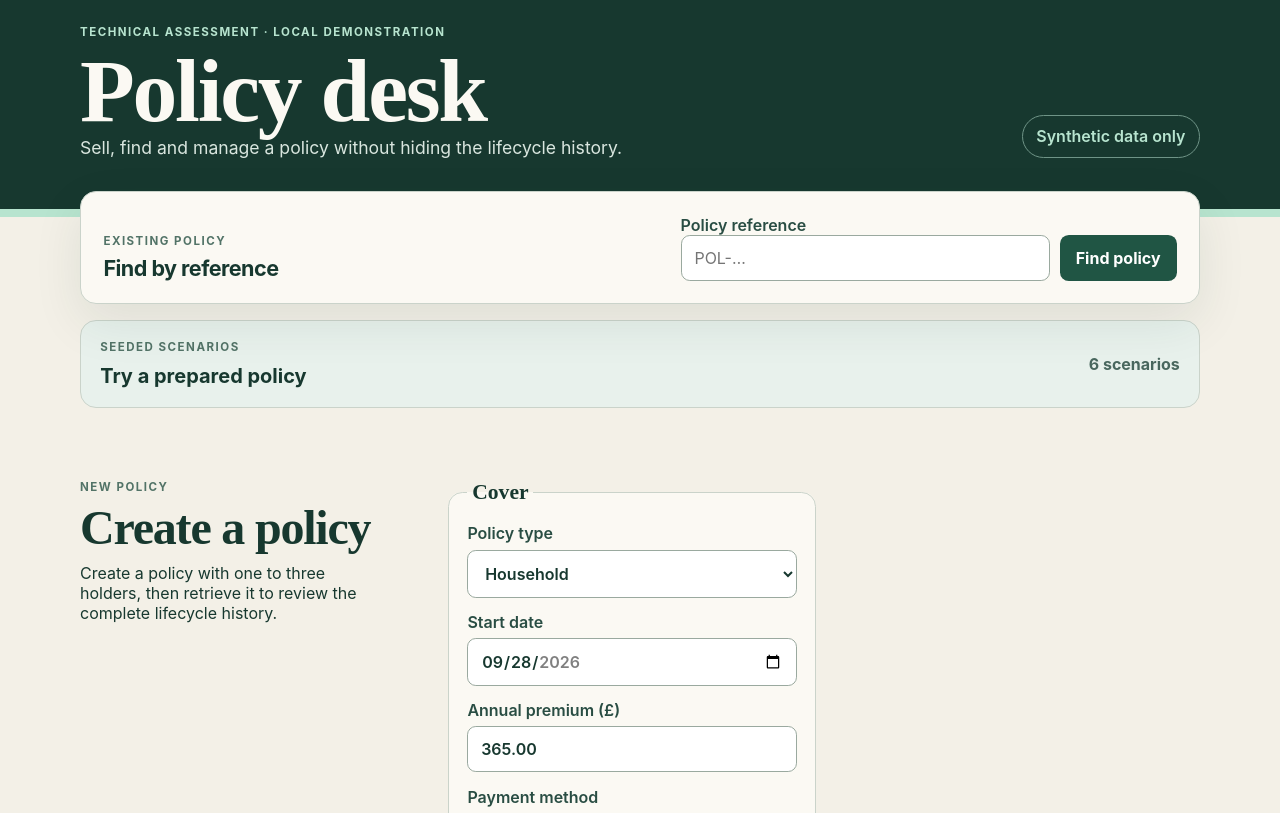
it: policy desk › retains confirmed cancellation after a failed GET
Type "POL-DEMO123" into the field labelled "Policy reference". click: (865, 258)
box: x1=681 y1=235 x2=1050 y2=281
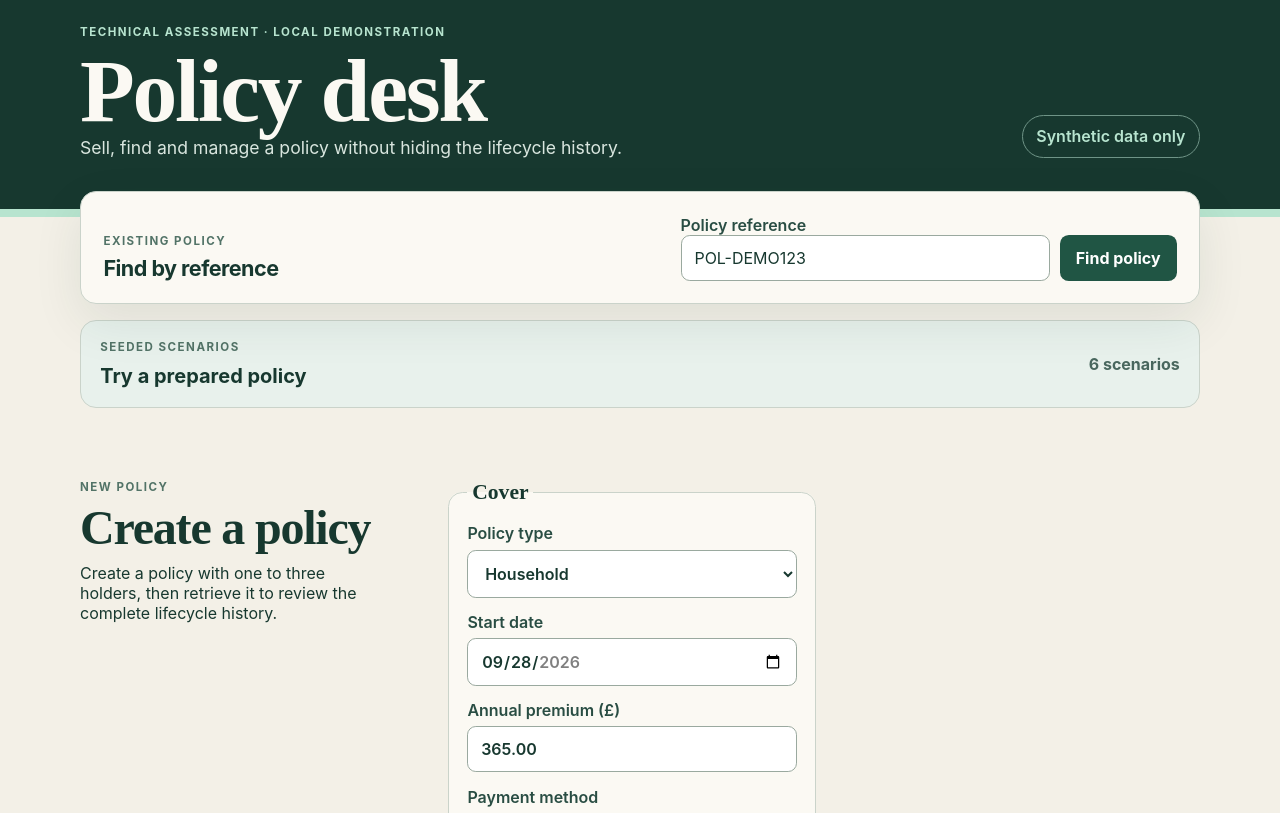
Submit the form labelled "Policy reference", box x1=681 y1=215 x2=1177 y2=281
(page scrolled)
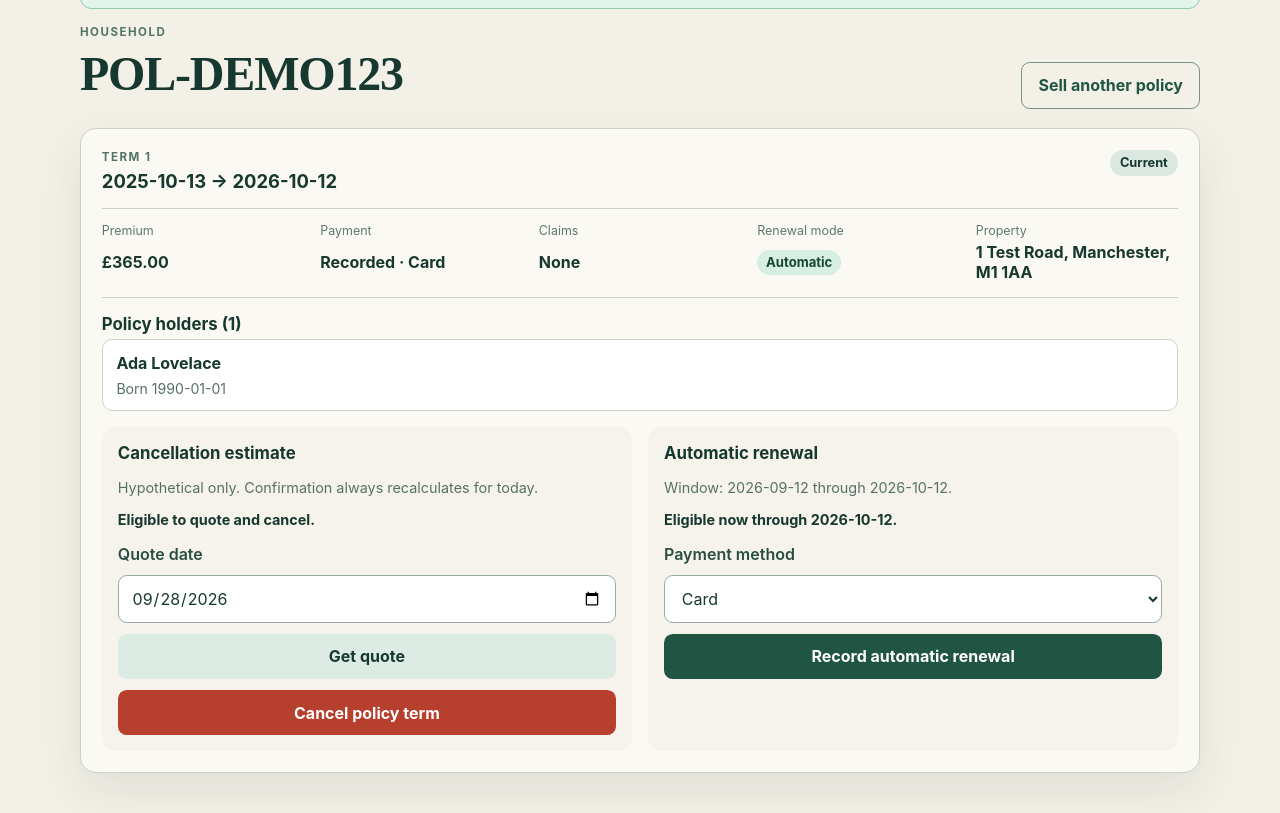
expect the heading "POL-DEMO123" is shown: met, box x1=80 y1=46 x2=403 y2=101
Click the button "Cancel policy term". click: click(367, 712)
box: x1=118 y1=690 x2=616 y2=735
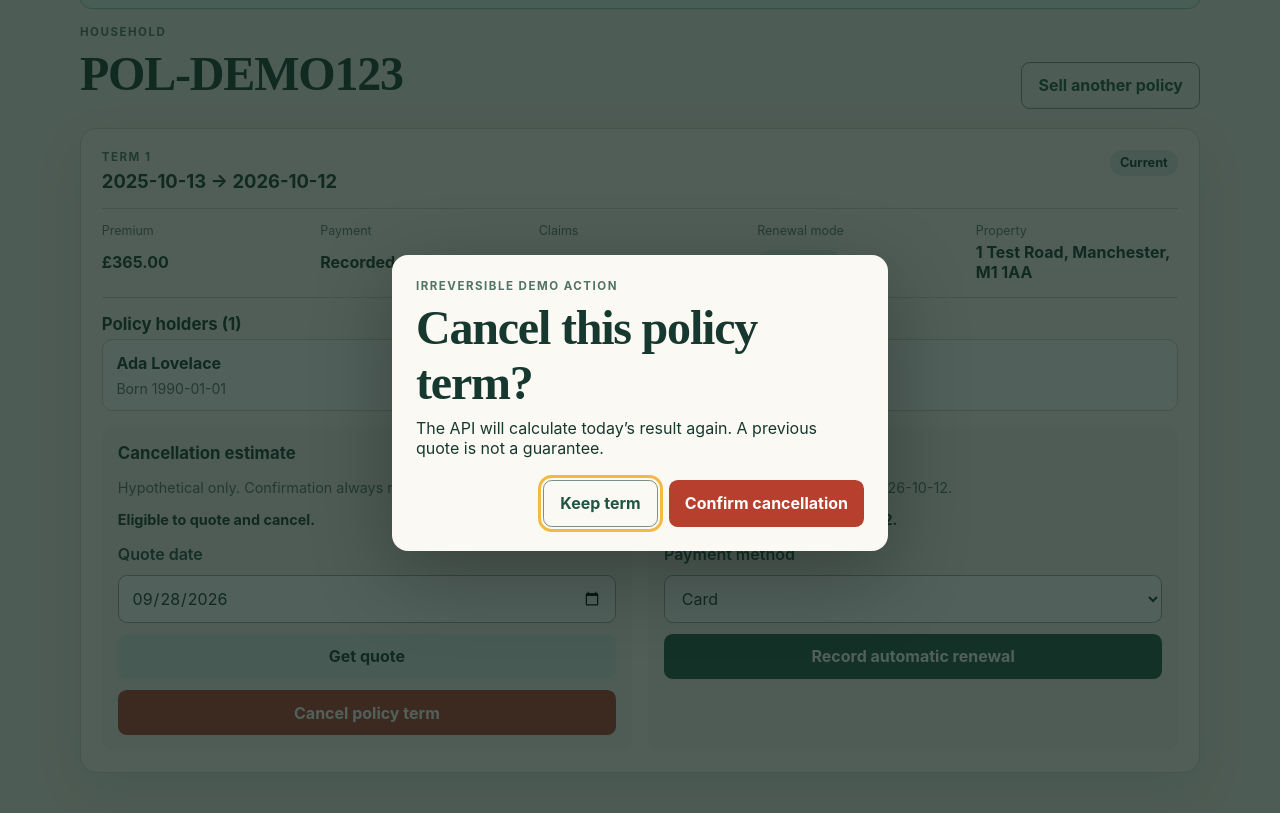
Click the button "Confirm cancellation". click: click(766, 503)
box: x1=669 y1=480 x2=864 y2=527
(page scrolled)
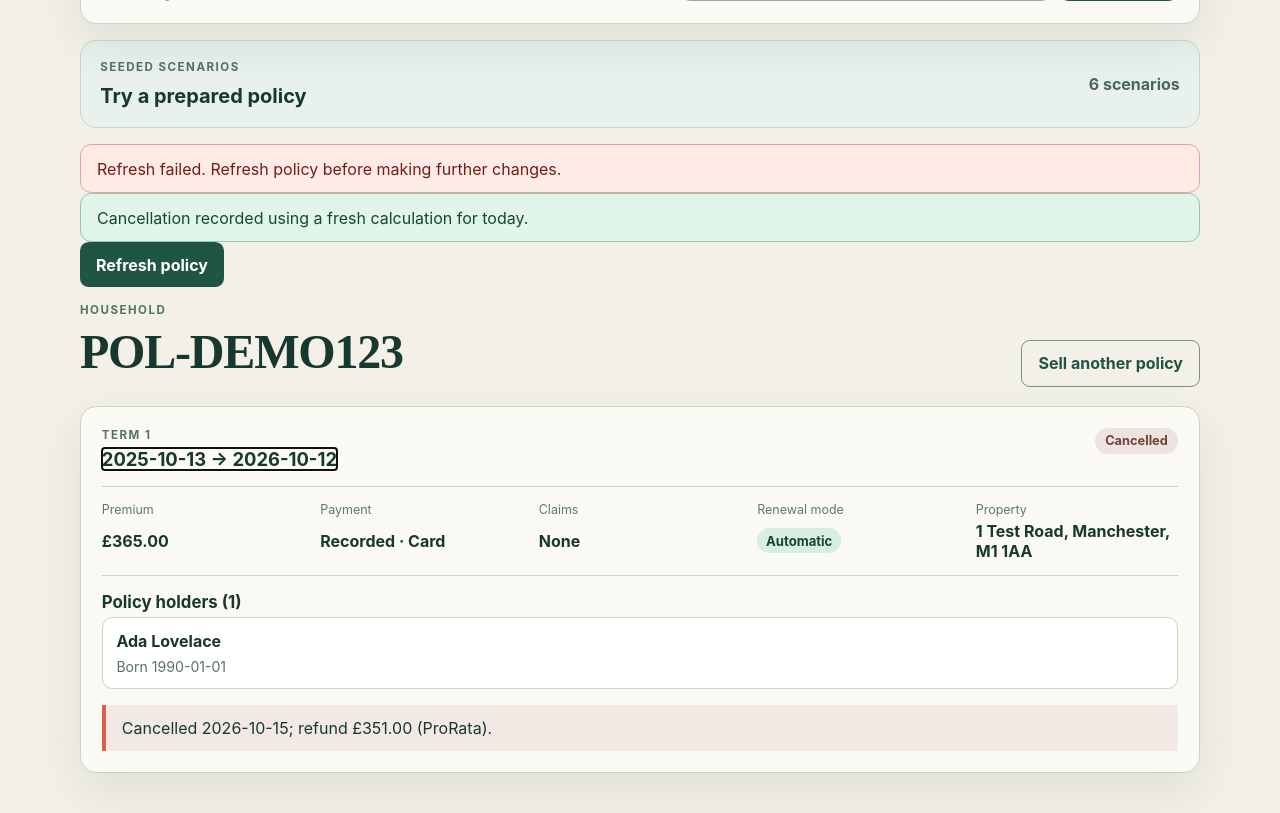
expect the message shows "Refresh failed": met, box x1=97 y1=159 x2=561 y2=179
expect the text "Cancellation recorded using a fresh calculation for today." is shown: met, box x1=80 y1=193 x2=1200 y2=242
expect the button "Cancel policy term" is gone: met
Click the button "Refresh policy". click: click(152, 265)
box: x1=80 y1=242 x2=224 y2=287
(page scrolled)
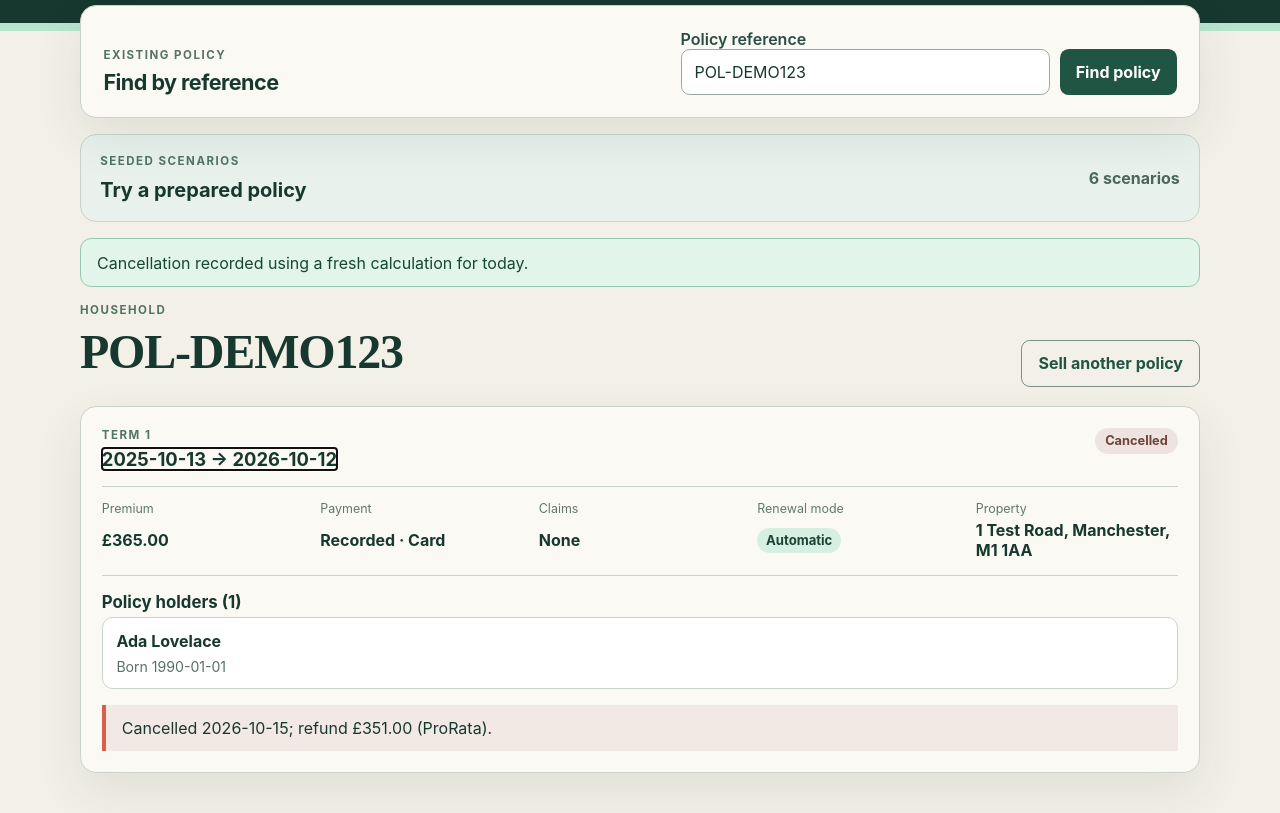
expect the message "Refresh policy" is gone: met
